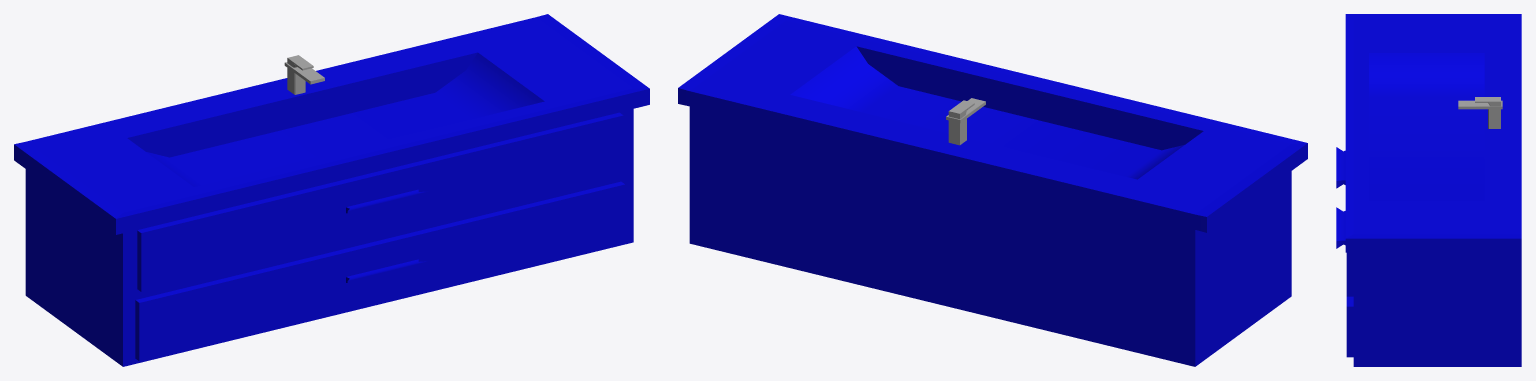
The model's file is Washbasin.fbx.
3 renders of one model, left to right at view 1: azimuth 30°, elevation 25°; view 2: azimuth 150°, elevation 25°; view 3: azimuth 270°, elevation 25°, orthographic. The views are drawn at different scales.
Visible parts, largest first — view 1: pCube169; view 2: pCube169; view 3: pCube169.
Boxes of the visible parts, x1,y1,x2,y2 form: pCube169: (14,14,649,366); pCube169: (678,14,1307,366); pCube169: (1336,14,1521,366).
Size of the model in its own units: 3.49 by 1.16 by 1.22.
